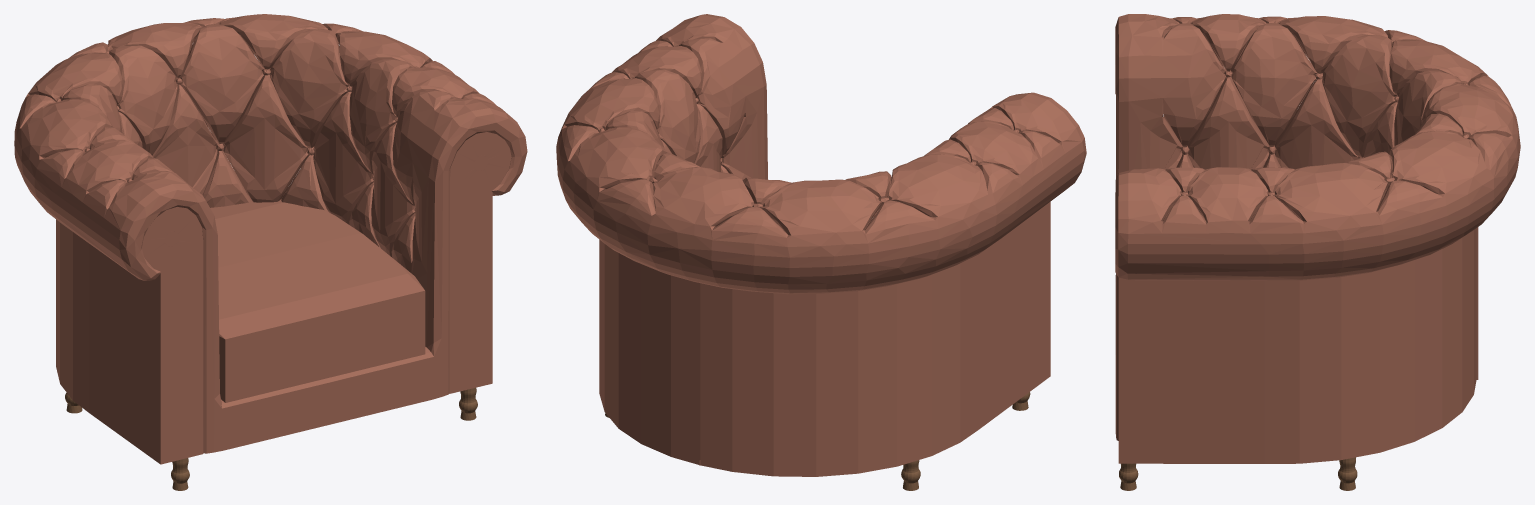
Rendered from b0-winchesterarmchair.glb.
The picture shows the model from 3 angles, left to right: view 1: azimuth 30°, elevation 25°; view 2: azimuth 150°, elevation 25°; view 3: azimuth 270°, elevation 25°; orthographic projection. The views are drawn at different scales.
Parts seen in each view (by area): view 1: Circle, Circle.002_Circle.003, Cube_Cube.001; view 2: Circle, Circle.002_Circle.003; view 3: Circle, Circle.002_Circle.003, Circle.004_Circle.005, Circle.003_Circle.004.
Boxes of the visible parts, left/top/right/bottom form: Circle: left=14, top=14, right=527, bottom=453; Circle.002_Circle.003: left=56, top=132, right=511, bottom=464; Cube_Cube.001: left=210, top=192, right=425, bottom=402; Circle: left=556, top=14, right=1086, bottom=294; Circle.002_Circle.003: left=599, top=202, right=1050, bottom=476; Circle: left=1115, top=14, right=1520, bottom=440; Circle.002_Circle.003: left=1118, top=227, right=1478, bottom=463; Circle.004_Circle.005: left=1338, top=457, right=1357, bottom=490; Circle.003_Circle.004: left=1119, top=463, right=1138, bottom=490.
Size of the model in its own units: 1.12 by 0.804 by 0.934.
